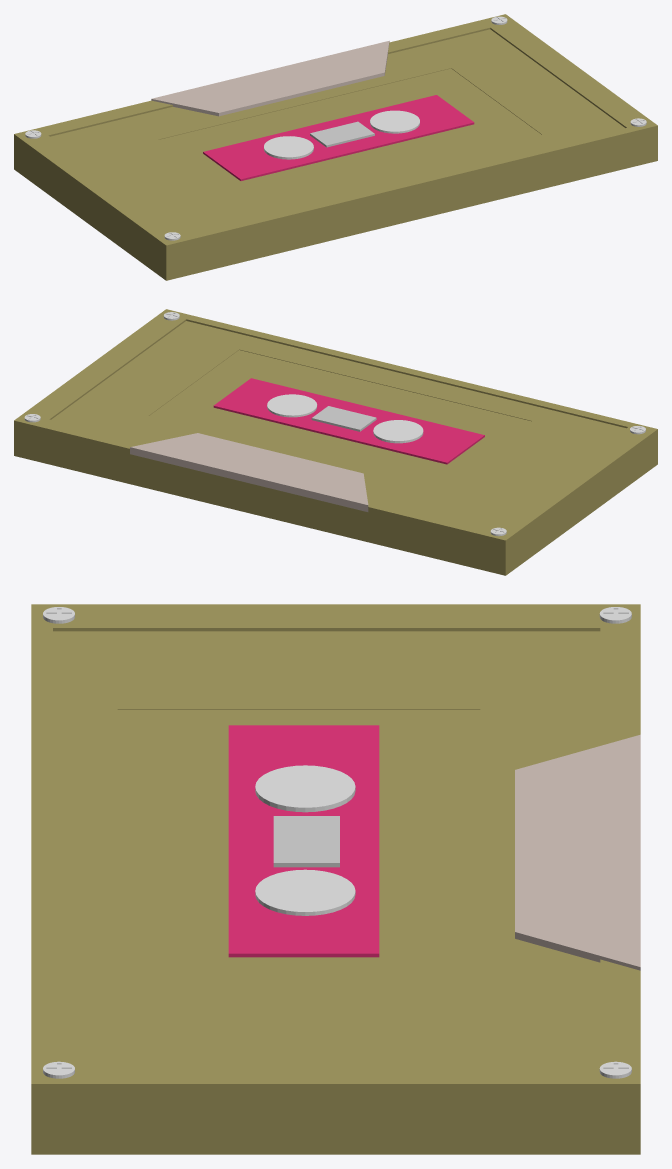
The model's file is FITA-1.fbx.
3 views of the same model, one above another, from view 1: azimuth 30°, elevation 25°; view 2: azimuth 150°, elevation 25°; view 3: azimuth 270°, elevation 25° (orthographic). The views are drawn at different scales.
Visible parts, largest first — view 1: Cube.096, Cube.098, Cube.101, Cylinder, Cylinder.001, Cube.102; view 2: Cube.096, Cube.098, Cube.101, Cylinder, Cylinder.001, Cube.102; view 3: Cube.096, Cube.098, Cube.101, Cylinder, Cylinder.001, Cube.102.
Part boxes in pixels (box(x1,y1,x2,y2)): Cube.096: box(14, 14, 657, 280); Cube.098: box(151, 40, 389, 116); Cube.101: box(203, 95, 474, 180); Cylinder: box(264, 136, 313, 159); Cylinder.001: box(370, 110, 419, 133); Cube.102: box(310, 121, 374, 147); Cube.096: box(14, 309, 657, 575); Cube.098: box(130, 433, 368, 511); Cube.101: box(213, 378, 484, 464); Cylinder: box(373, 420, 423, 443); Cylinder.001: box(267, 394, 317, 417); Cube.102: box(311, 406, 376, 431); Cube.096: box(31, 604, 640, 1154); Cube.098: box(515, 734, 640, 970); Cube.101: box(228, 725, 379, 957); Cylinder: box(255, 765, 355, 812); Cylinder.001: box(255, 869, 355, 915); Cube.102: box(273, 816, 339, 867).
Bounding box in the file's own units: 31.81 × 2.31 × 17.06.
